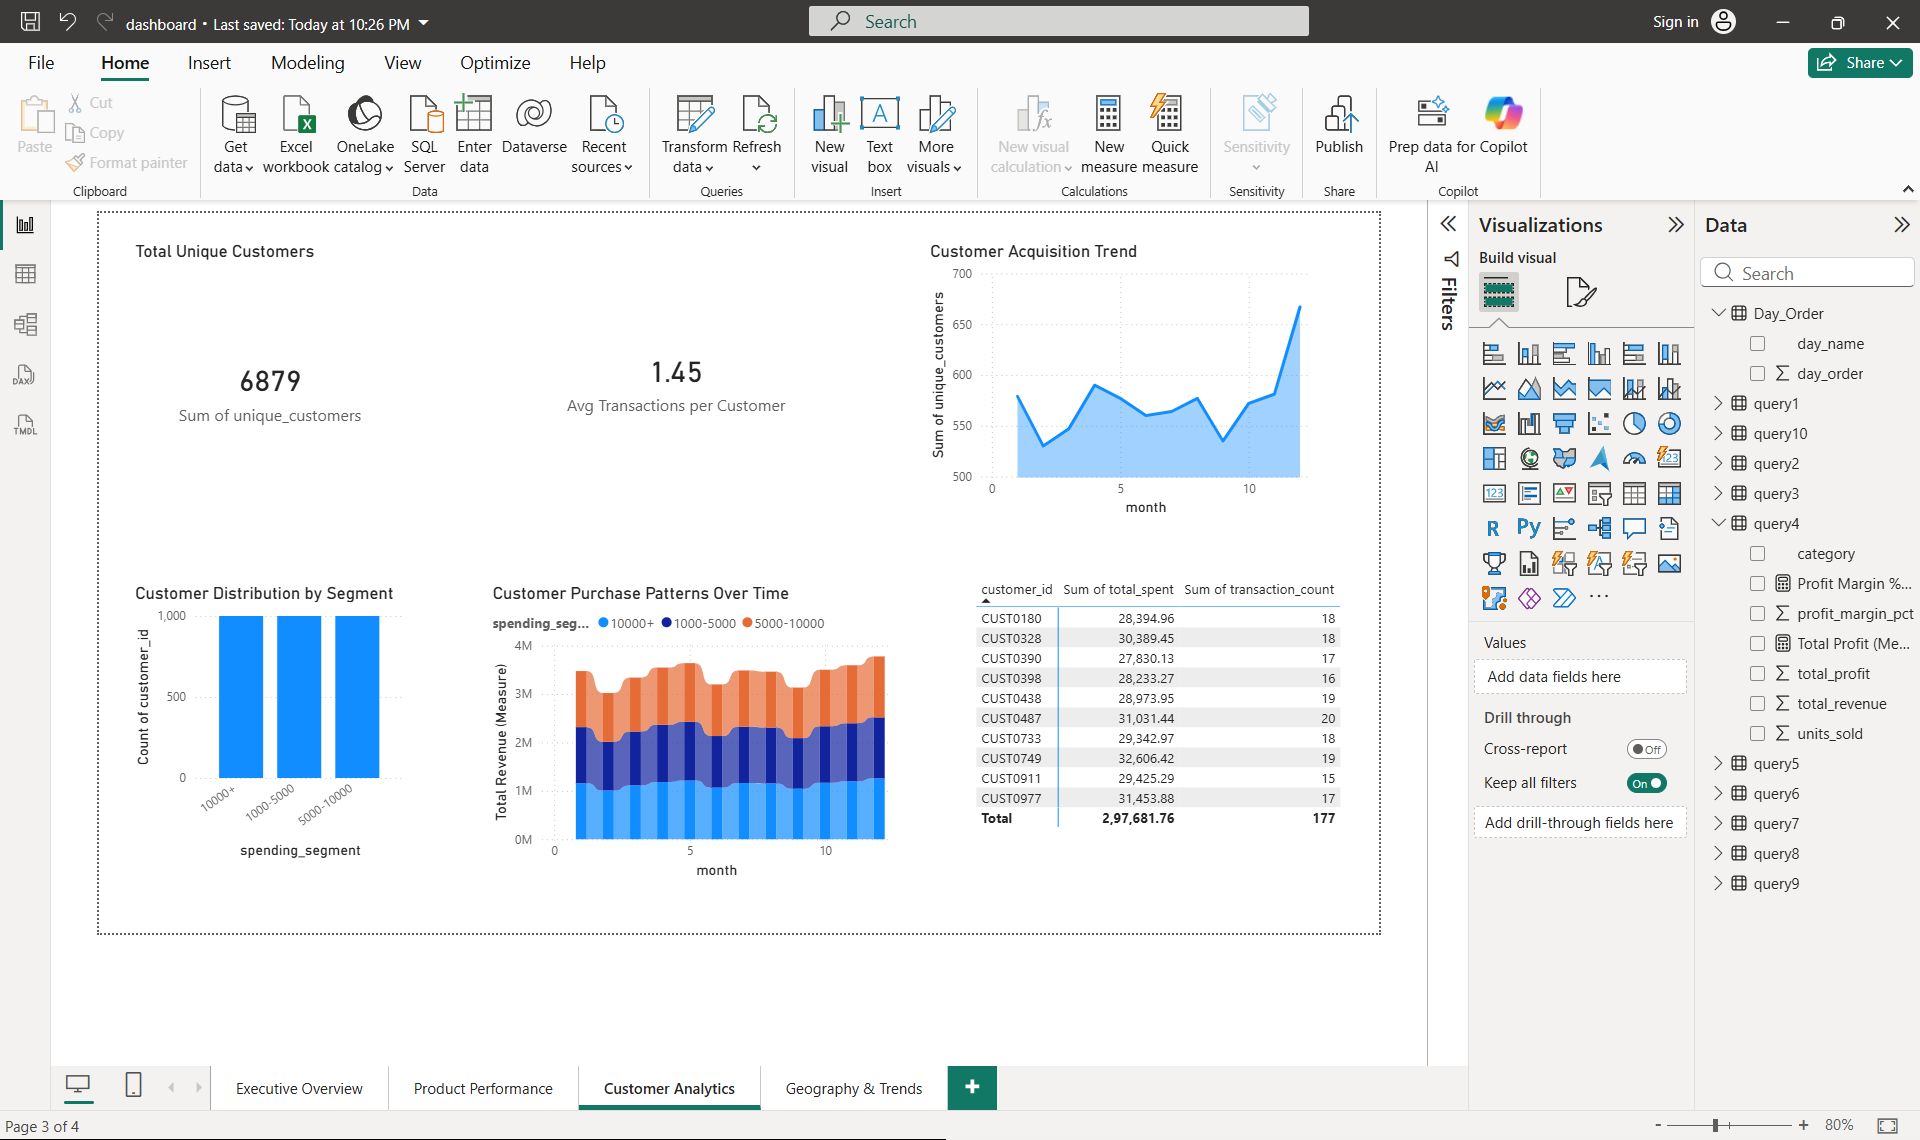

The page's visual inventory and layout, read from the dashboard file:
{"tool":"powerbi","page":{"name":"Customer Analytics","canvas":[1280,720],"ordinal":2},"visuals":[{"type":"card","title":"Total Unique Customers","fields":{"Values":["Sum(query2.unique_customers)"]},"box":[31.1,27.8,280,280],"z":0},{"type":"card","fields":{"Values":["query2.Avg Transactions per Customer"]},"box":[414.3,27.1,327.1,280],"z":1000},{"type":"clusteredColumnChart","title":"Customer Distribution by Segment","fields":{"Category":["query3.spending_segment"],"Y":["CountNonNull(query7.customer_id)"]},"box":[31.4,370,280,280],"z":2000},{"type":"pivotTable","fields":{"Rows":["query7.customer_id"],"Values":["Sum(query7.total_spent)","Sum(query7.transaction_count)"]},"box":[872.9,360,407.1,265.7],"z":3000},{"type":"areaChart","title":"Customer Acquisition Trend","fields":{"Category":["query2.month"],"Y":["Sum(query2.unique_customers)"]},"box":[825.7,27.1,390,280],"z":4000},{"type":"ribbonChart","title":"Customer Purchase Patterns Over Time","fields":{"Series":["query3.spending_segment"],"Category":["query2.month"],"Y":["query2.Total Revenue (Measure)"]},"box":[388.6,370,408.6,300],"z":5000}]}

Visuals, with their boxes on the page's 1280x720 design canvas (x1, y1, x2, y2). These are canvas units, not pixel positions in the 1920x1140 screenshot, which may show the page scaled, cropped or inside an application window:
"Total Unique Customers" card: bbox=(31, 28, 311, 308)
card - query2.Avg Transactions per Customer: bbox=(414, 27, 741, 307)
"Customer Distribution by Segment" clusteredColumnChart: bbox=(31, 370, 311, 650)
pivotTable - query7.customer_id x Sum(query7.total_spent): bbox=(873, 360, 1280, 626)
"Customer Acquisition Trend" areaChart: bbox=(826, 27, 1216, 307)
"Customer Purchase Patterns Over Time" ribbonChart: bbox=(389, 370, 797, 670)
